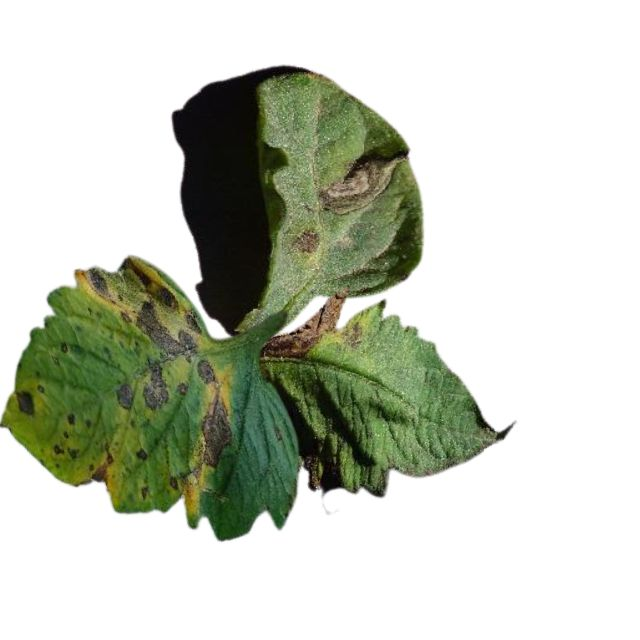Early_blight: (74, 255, 202, 364), (262, 286, 350, 360), (311, 147, 404, 215), (194, 389, 234, 470), (138, 358, 169, 410), (91, 446, 113, 488), (12, 386, 36, 416), (194, 358, 218, 386), (292, 228, 318, 252), (54, 442, 81, 461), (116, 383, 134, 409), (134, 446, 148, 460), (64, 412, 77, 427), (177, 381, 189, 395), (169, 477, 180, 492)
